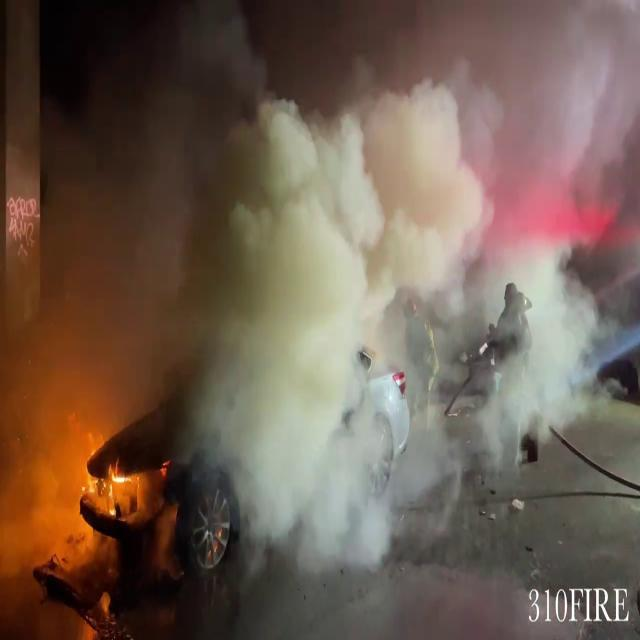Smoke: (1, 1, 636, 582)
